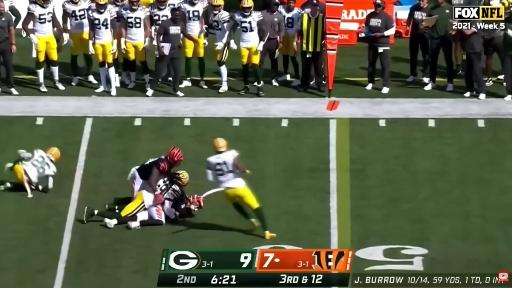Helmet: (167, 147, 183, 164), (189, 195, 204, 211), (176, 170, 189, 187), (46, 147, 60, 161), (213, 138, 227, 151), (211, 0, 224, 14), (241, 0, 253, 15), (95, 0, 108, 13), (154, 0, 168, 9), (36, 0, 51, 7), (129, 0, 140, 9), (113, 0, 125, 6), (189, 0, 200, 5), (70, 0, 82, 4)
Jersey: (207, 150, 245, 187), (22, 150, 56, 184), (88, 5, 115, 43), (121, 6, 149, 42), (234, 12, 262, 47), (180, 1, 208, 36), (63, 0, 90, 33), (28, 3, 53, 36), (137, 157, 172, 180), (157, 175, 186, 200), (279, 6, 302, 34), (210, 10, 230, 42), (150, 3, 170, 30), (111, 3, 128, 30), (172, 196, 191, 215), (168, 0, 183, 7), (144, 194, 152, 204)
Player: (207, 138, 275, 239), (84, 171, 190, 228), (22, 0, 67, 92), (232, 0, 267, 94), (62, 0, 97, 85), (128, 147, 183, 198), (88, 0, 117, 95), (6, 147, 60, 197), (120, 0, 150, 89), (209, 0, 237, 92), (180, 0, 208, 88), (279, 0, 302, 86), (111, 0, 129, 86), (150, 0, 171, 45), (150, 0, 170, 44)
